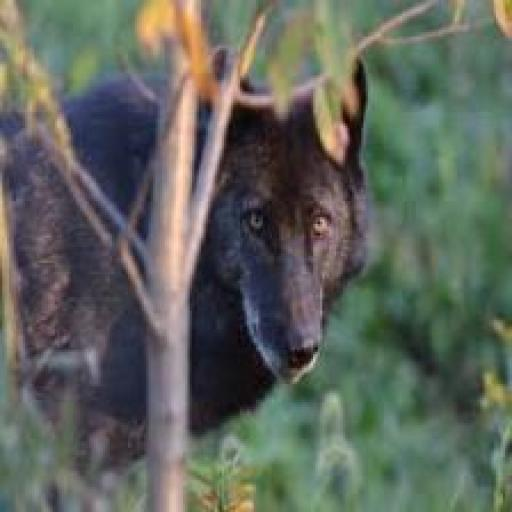wolf: (0, 11, 377, 448)
